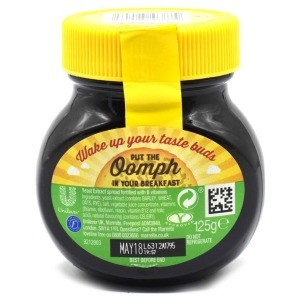yeast spread_brain food: (30, 85, 260, 262)
